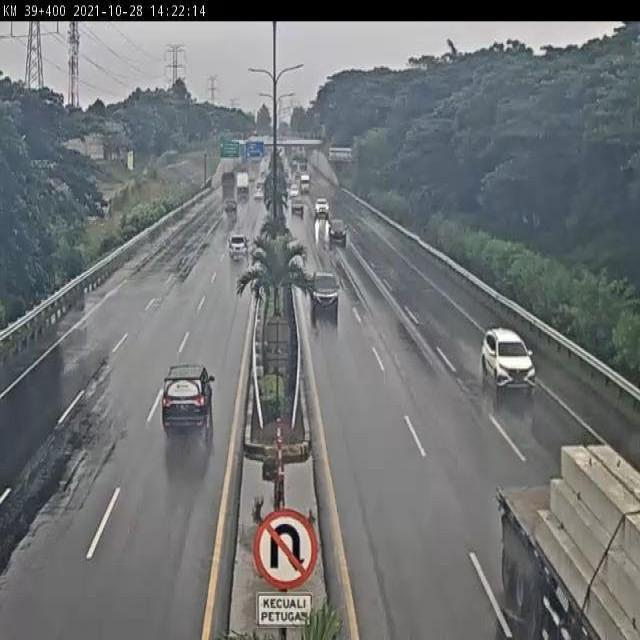car: (478, 324, 536, 396), (162, 363, 216, 432), (309, 270, 340, 318), (228, 232, 250, 261)
